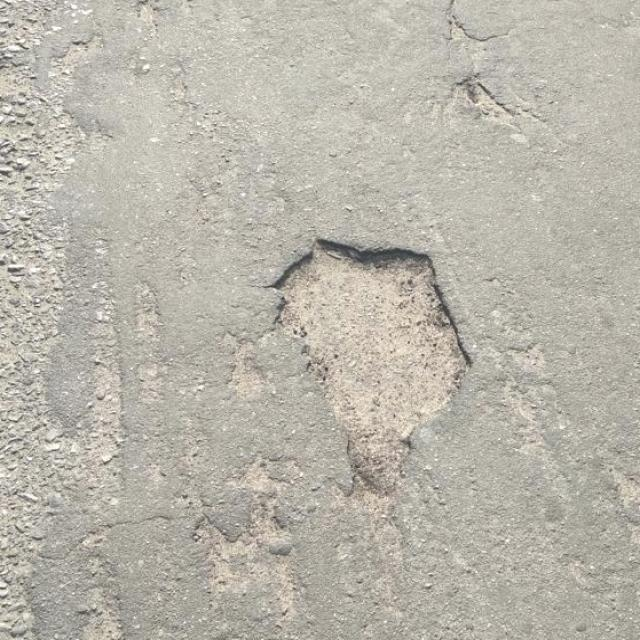road-pothole: (255, 228, 469, 536)
